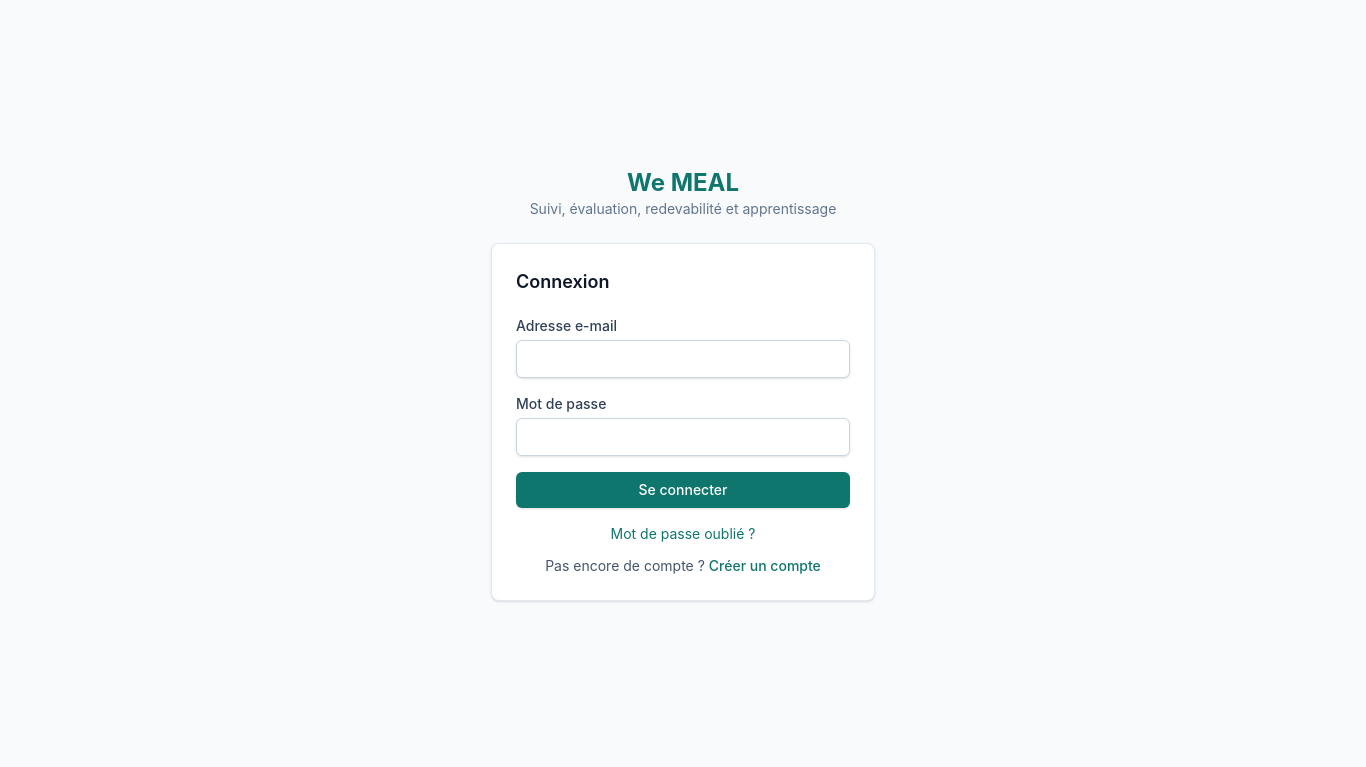
Test case: connecte l'utilisateur ouvre le tableau de bord d'un projet puis son cadre logique
The width and height of the screenshot is (1366, 767).
Type "awa@example.org" into the field labelled "Adresse e-mail".
click(683, 359); type("awa@example.org")  # box [516,340,850,378]
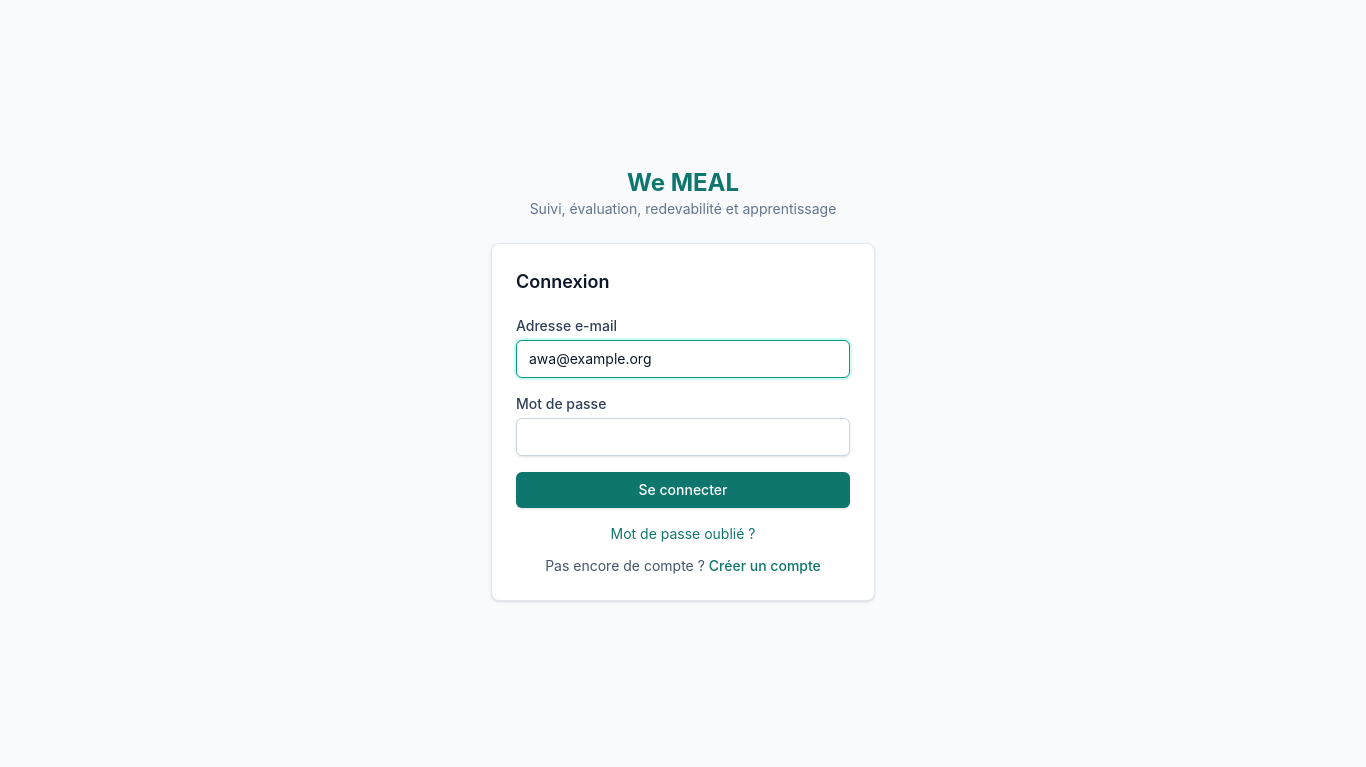
Type "motdepasse1" into the password field labelled "Mot de passe".
click(683, 437); type("motdepasse1")  # box [516,418,850,456]
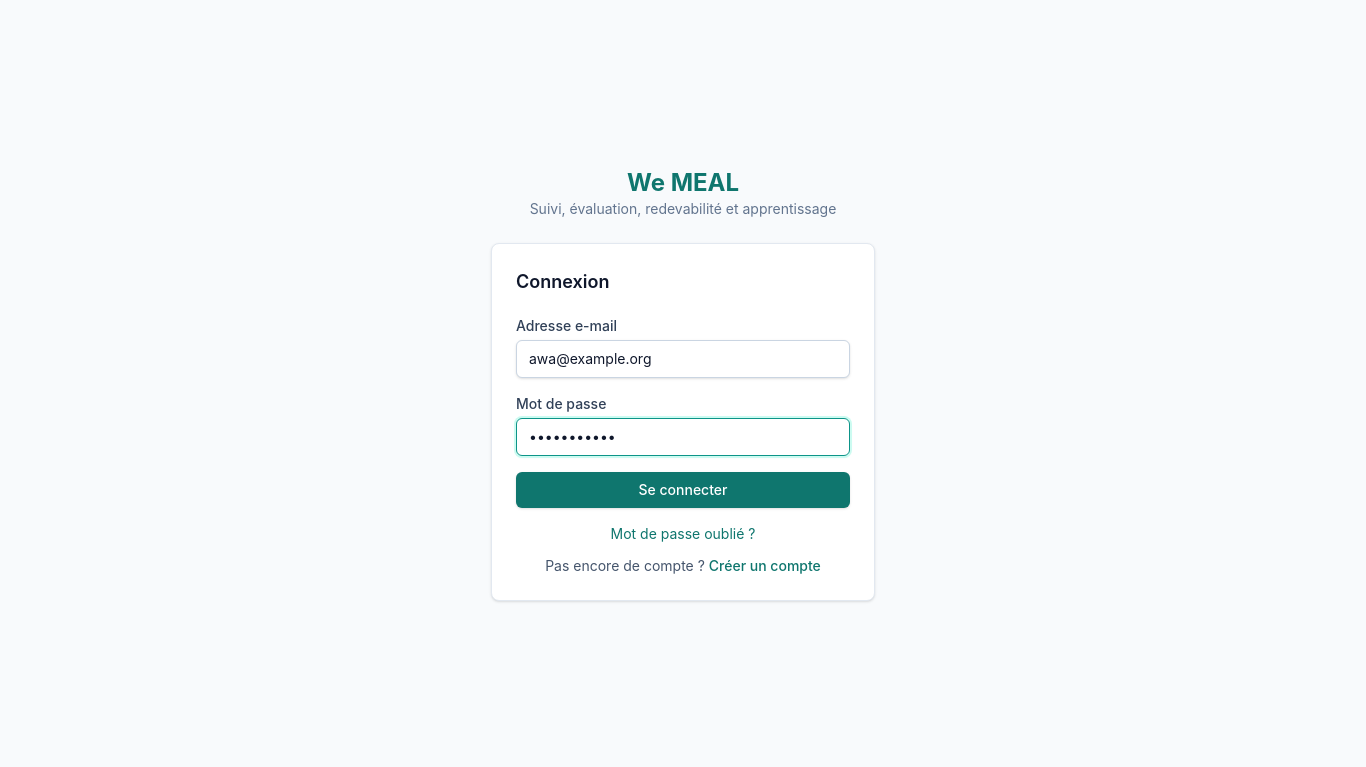
Click the button "Se connecter".
click(683, 490)  # box [516,472,850,508]
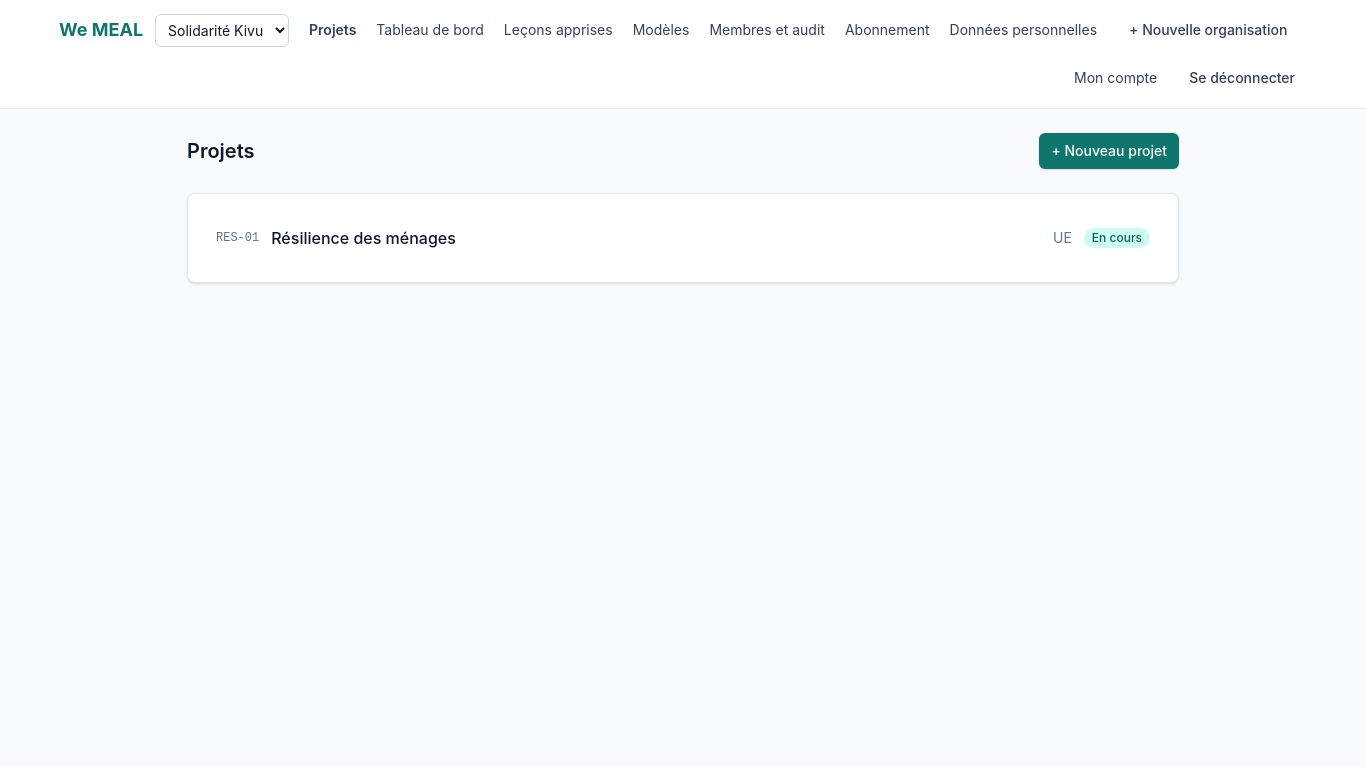
Expected: the heading "Projets" is shown, [187,137,254,165]
Click the text "Résilience des ménages".
click(364, 238)  # box [271,228,456,248]
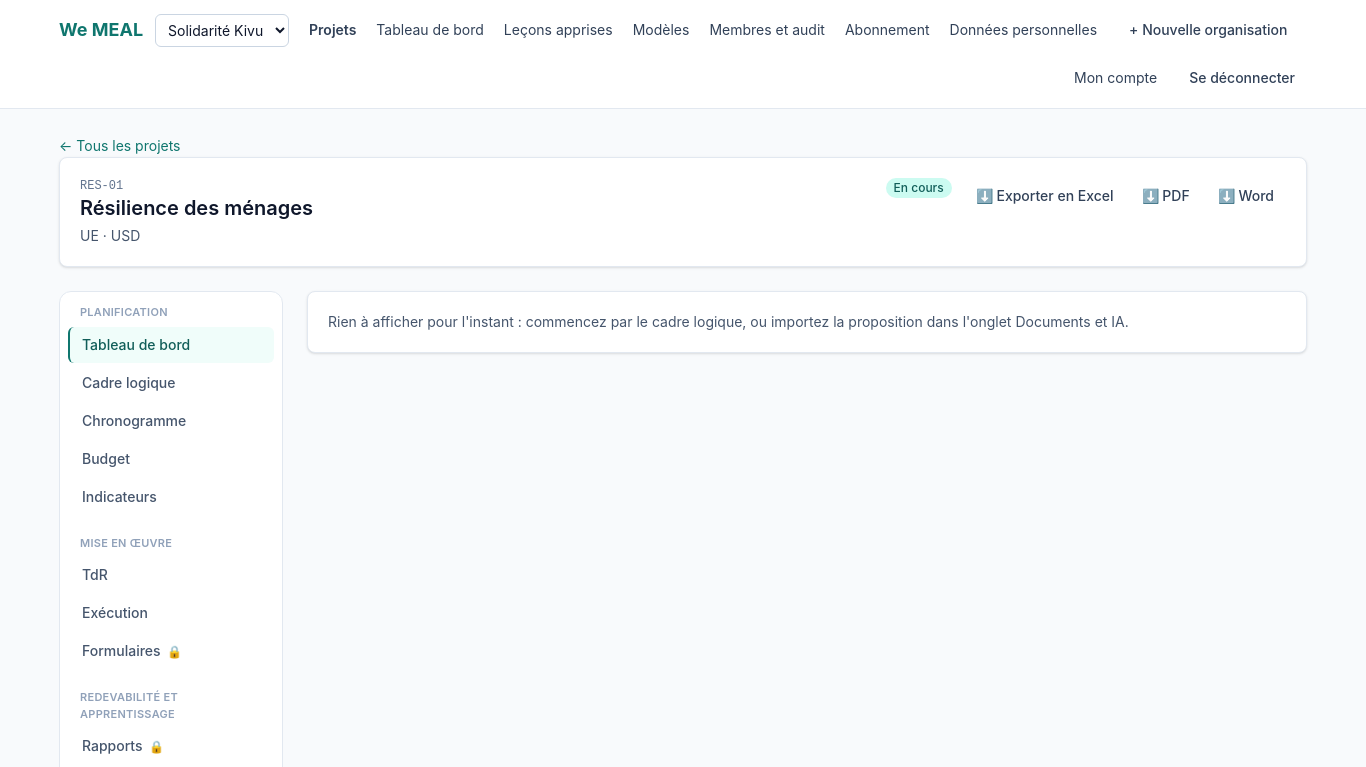
Expected: the text "Rien à afficher pour l'instant" is shown, [328,313,1129,330]
Click the button "Cadre logique".
click(171, 382)  # box [68,364,274,400]
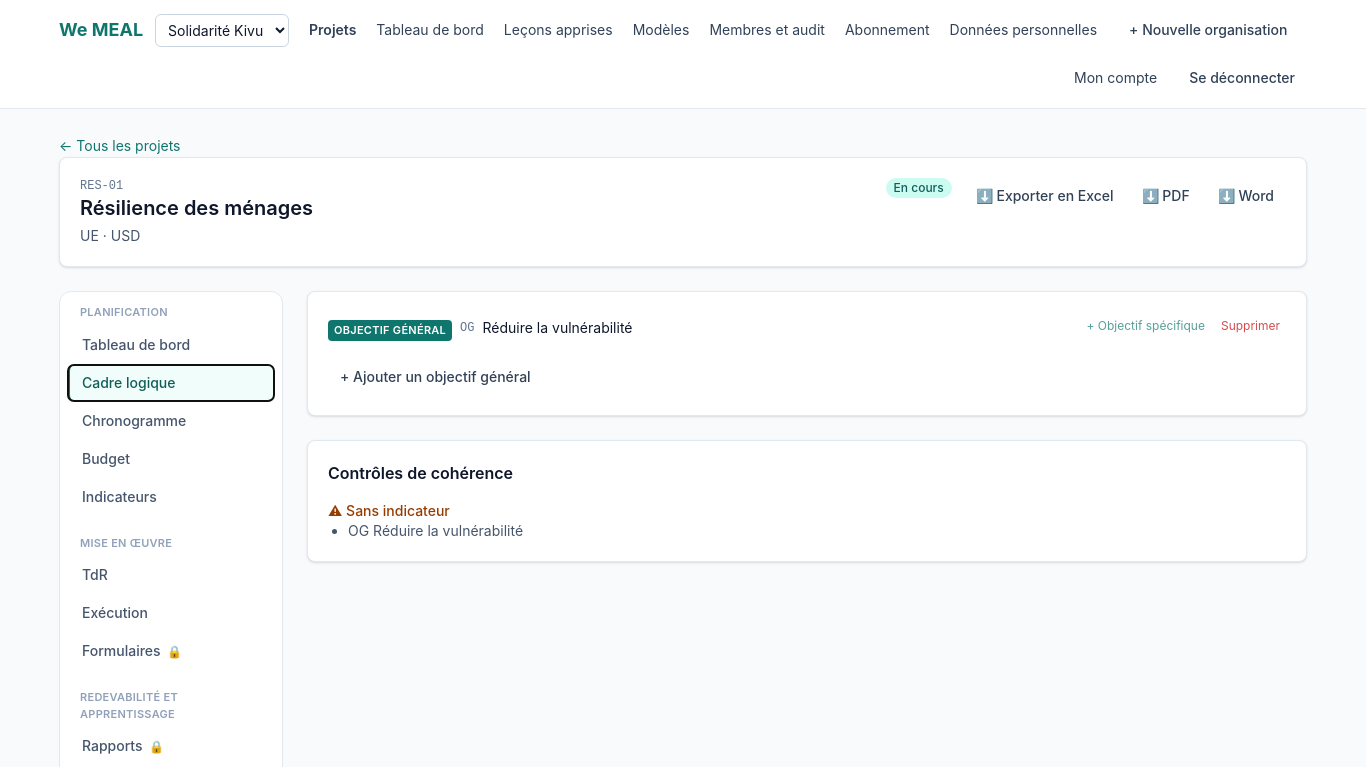
Expected: the text "Réduire la vulnérabilité" is shown, [482,319,632,336]
Expected: the text "⚠ Sans indicateur" is shown, [328,502,450,518]
